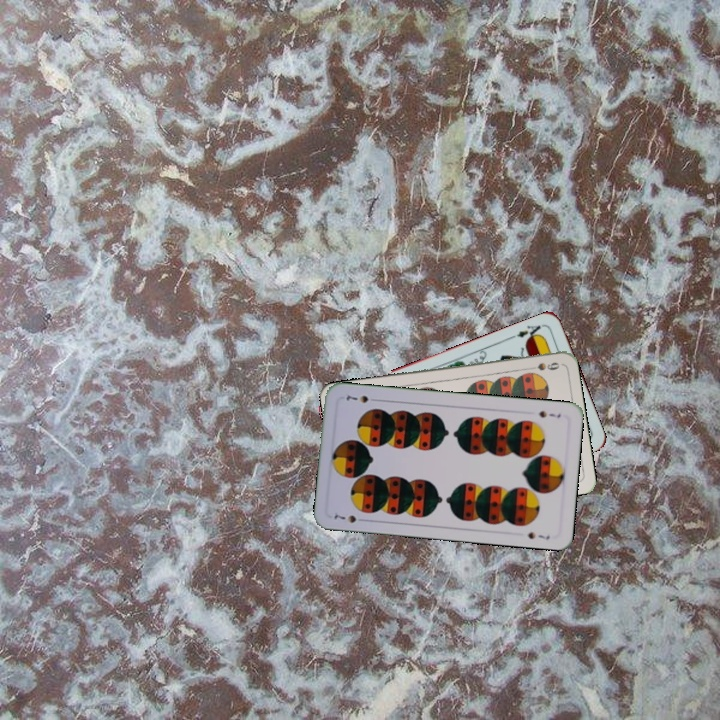EA: (508, 321, 544, 344)
S7: (330, 508, 369, 526), (535, 407, 563, 420)
S9: (521, 358, 562, 373)
